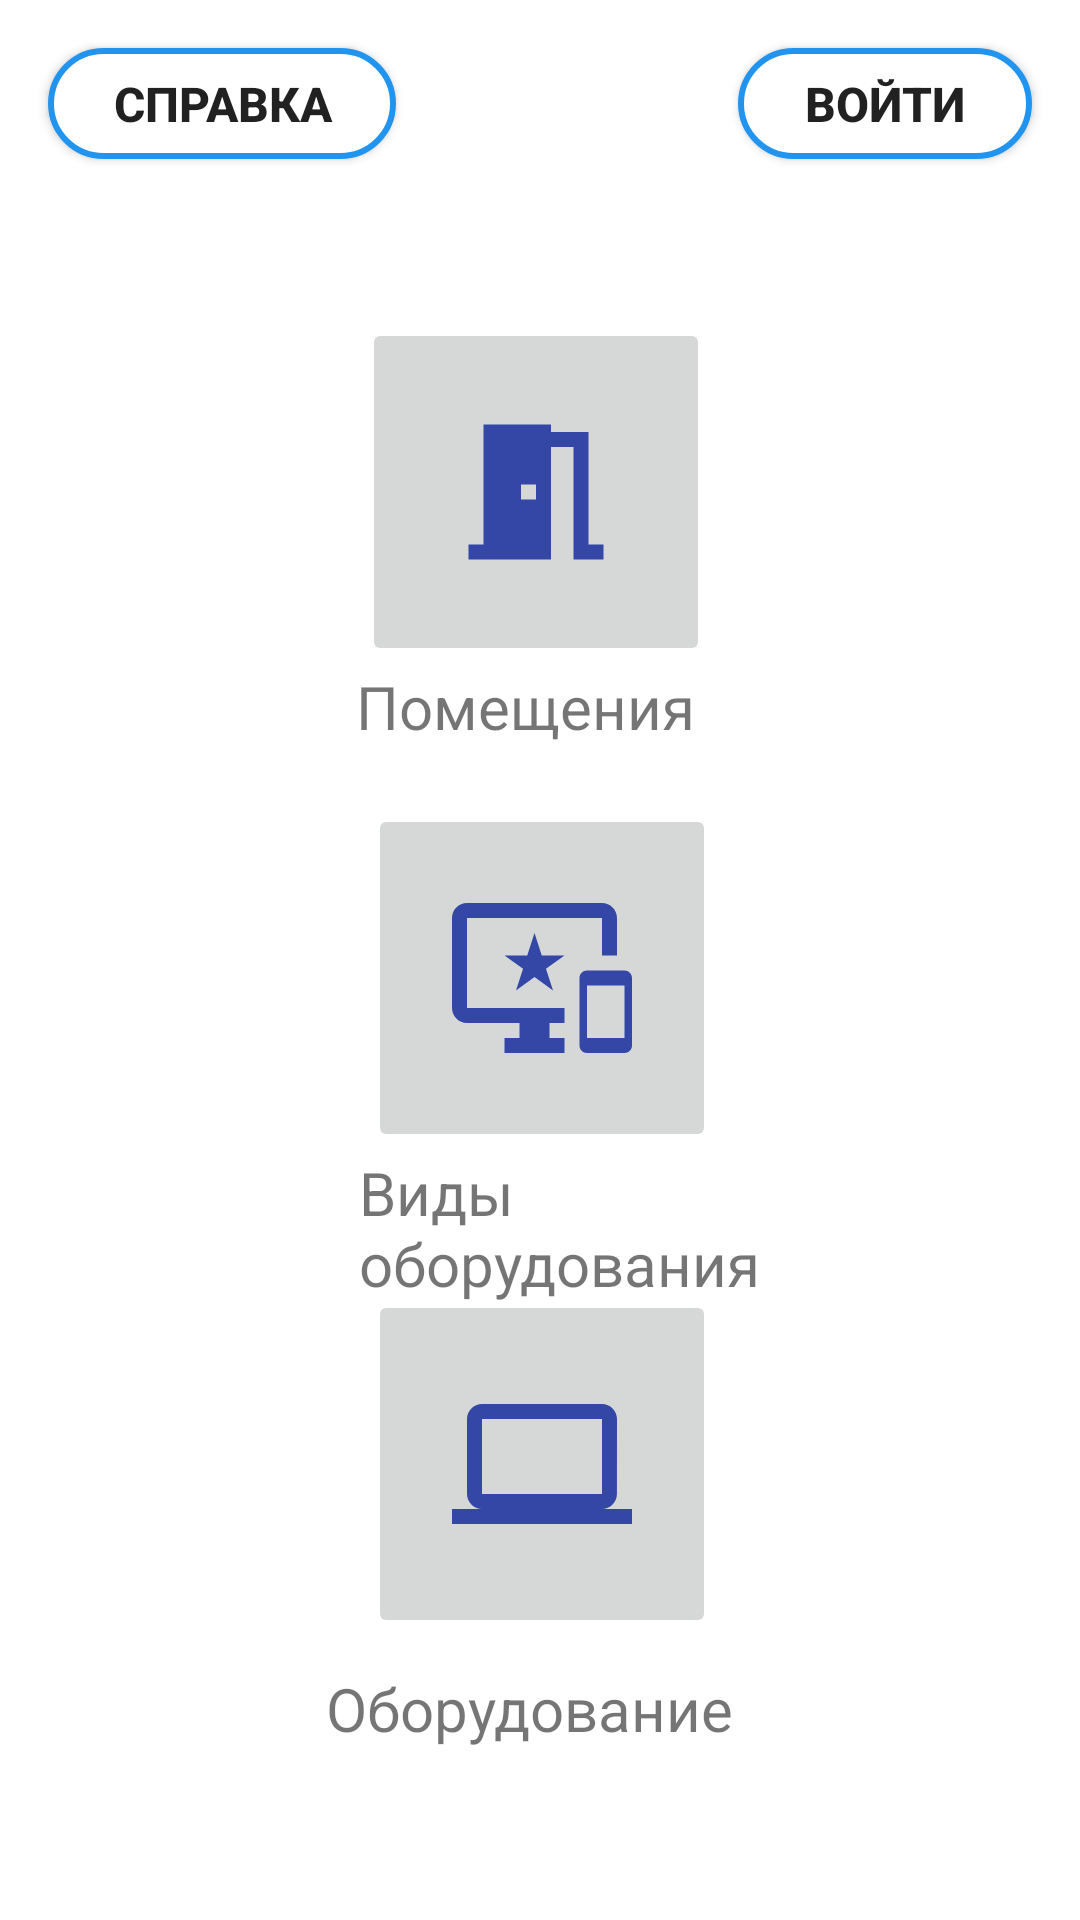

Where icons sit on this 1080 x 1920 app screen, as [left=x1, top=y1, right=x2, bottom=y2]:
computer: [left=380, top=1308, right=704, bottom=1620]
